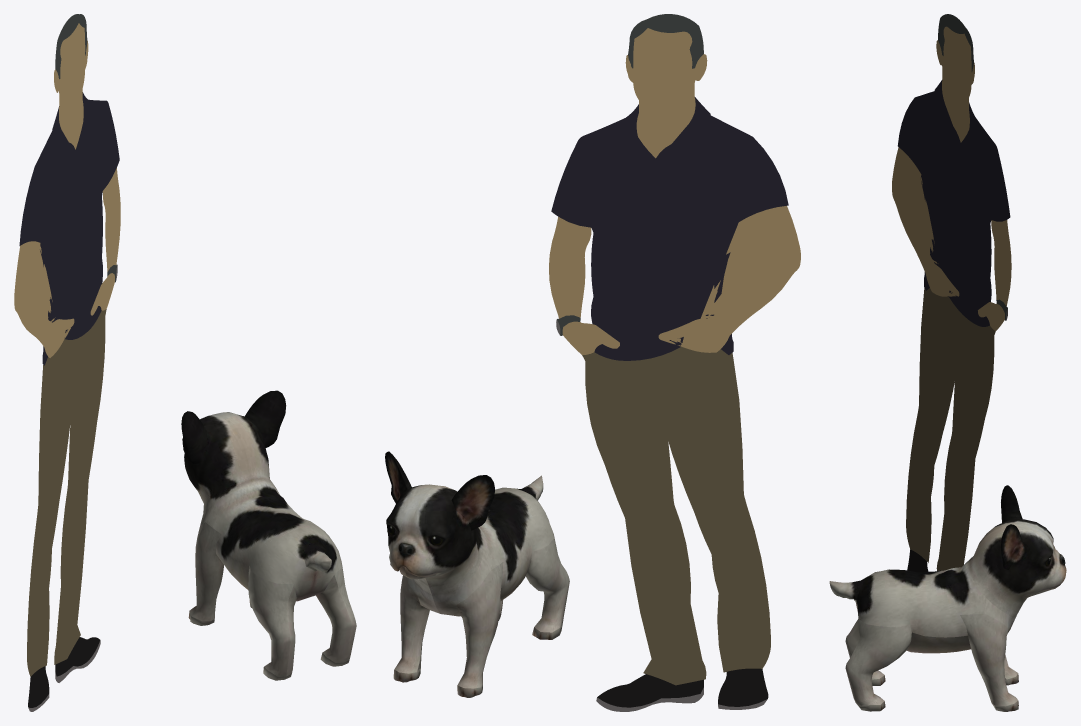
File: bulldog.obj
3 renders of one model, left to right at view 1: azimuth 30°, elevation 25°; view 2: azimuth 150°, elevation 25°; view 3: azimuth 270°, elevation 25°, orthographic. The views are drawn at different scales.
Parts seen in each view (by area): view 1: Mesh1 Chris1 Model, Mesh2 _Defintion1 default bulldog_skp1 Model; view 2: Mesh1 Chris1 Model, Mesh2 _Defintion1 default bulldog_skp1 Model; view 3: Mesh1 Chris1 Model, Mesh2 _Defintion1 default bulldog_skp1 Model.
Boxes of the visible parts, x1,y1,x2,y2 form: Mesh1 Chris1 Model: (14,14,120,711); Mesh2 _Defintion1 default bulldog_skp1 Model: (181,390,356,680); Mesh1 Chris1 Model: (549,14,800,711); Mesh2 _Defintion1 default bulldog_skp1 Model: (385,451,569,697); Mesh1 Chris1 Model: (892,14,1011,572); Mesh2 _Defintion1 default bulldog_skp1 Model: (829,485,1066,711).
Bounding box in the file's own units: 36.54 × 69.65 × 25.05.
